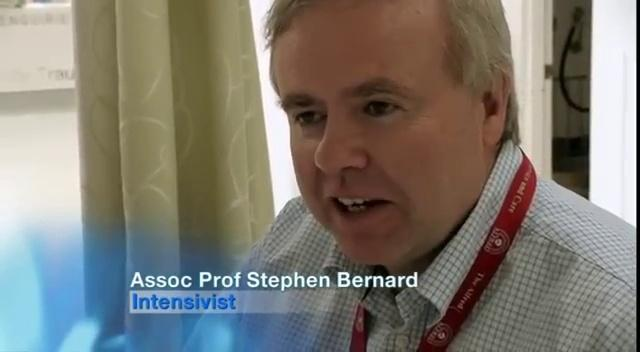others: (182, 0, 636, 351)
